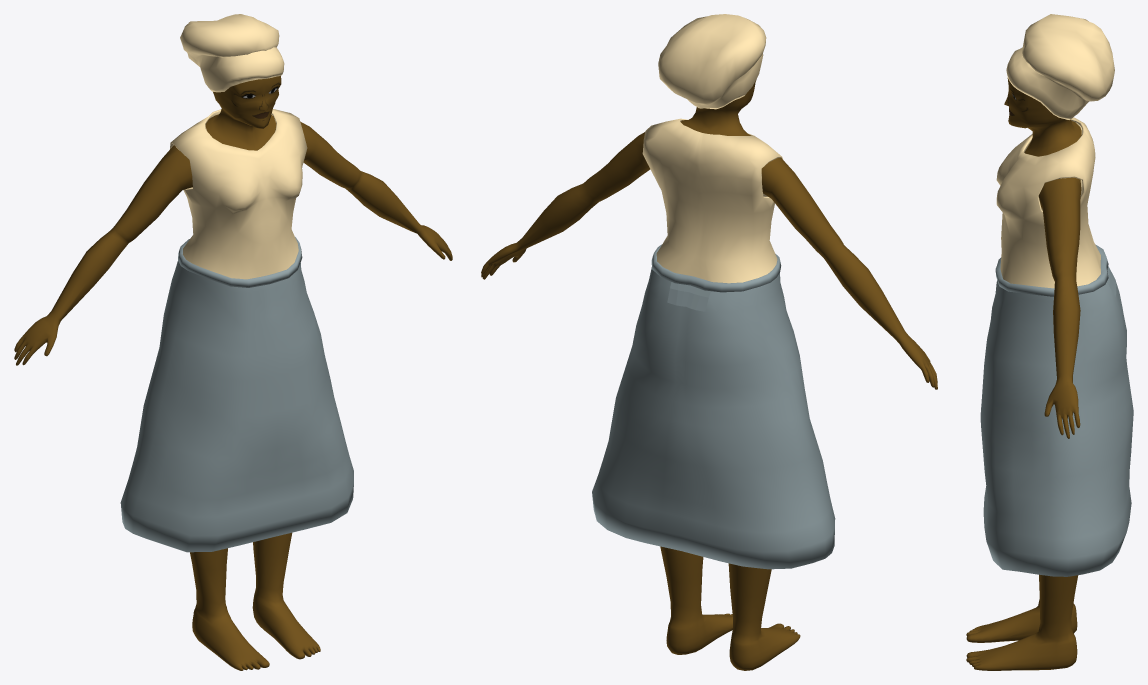
The model's file is Luiza.fbx.
3 renders of one model, left to right at view 1: azimuth 30°, elevation 25°; view 2: azimuth 150°, elevation 25°; view 3: azimuth 270°, elevation 25°, orthographic. The views are drawn at different scales.
Parts seen in each view (by area): view 1: Vestido, Luiza Mahin, Turbante; view 2: Vestido, Luiza Mahin, Turbante; view 3: Vestido, Luiza Mahin, Turbante.
Part boxes in pixels (<box>): Vestido: <box>120,109,353,552</box>; Luiza Mahin: <box>14,76,452,670</box>; Turbante: <box>180,14,284,92</box>; Vestido: <box>592,118,835,569</box>; Luiza Mahin: <box>481,79,937,670</box>; Turbante: <box>658,14,766,109</box>; Vestido: <box>980,117,1133,576</box>; Luiza Mahin: <box>966,78,1082,670</box>; Turbante: <box>1006,14,1114,119</box>.
Bounding box in the file's own units: 126 × 170 × 41.55.
Materials: 3 (1 with a texture image).
